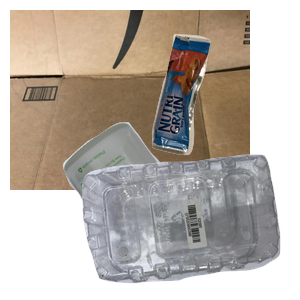cardboard: (10, 10, 250, 190)
glass: (60, 120, 300, 300)
plastic: (80, 152, 300, 300)
trash: (149, 31, 300, 179)
